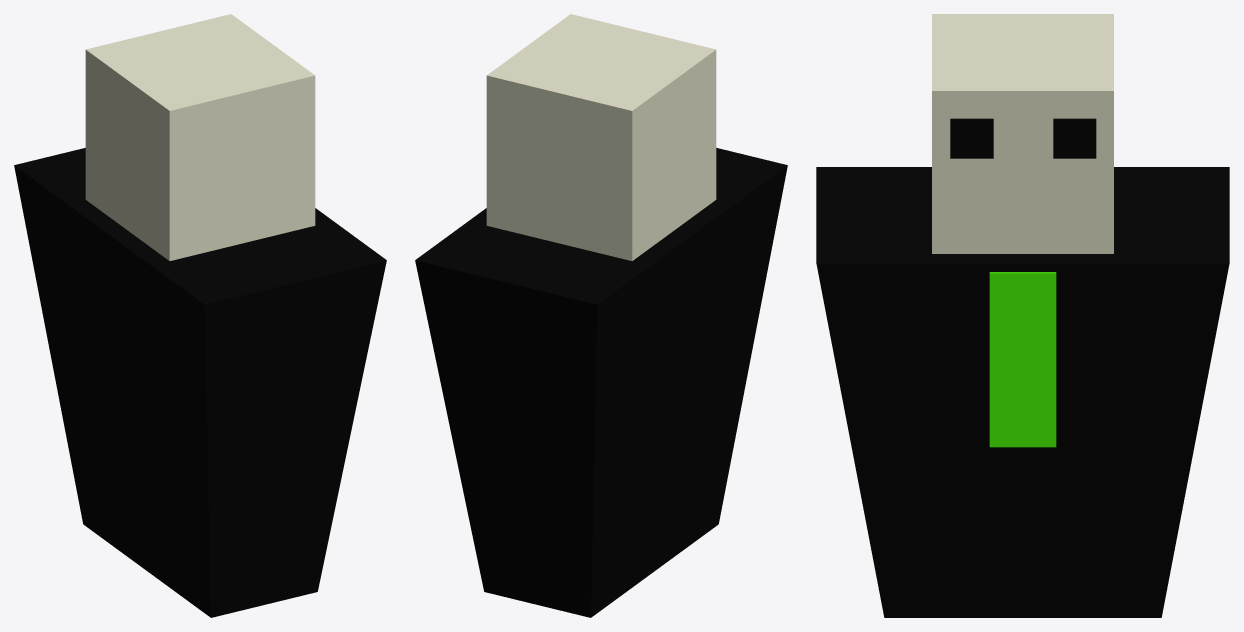
File: user3.glb
The picture shows the model from 3 angles, left to right: view 1: azimuth 30°, elevation 25°; view 2: azimuth 150°, elevation 25°; view 3: azimuth 270°, elevation 25°; orthographic projection. The views are drawn at different scales.
Parts seen in each view (by area): view 1: Cube, Cube.001; view 2: Cube, Cube.001; view 3: Cube, Cube.001, Cube.002, Cube.003, Cube.004.
Boxes of the visible parts, <box> form: Cube: <box>14,148,386,617</box>; Cube.001: <box>85,14,315,260</box>; Cube: <box>415,148,787,617</box>; Cube.001: <box>486,14,716,260</box>; Cube: <box>816,167,1229,617</box>; Cube.001: <box>932,14,1113,253</box>; Cube.002: <box>989,272,1056,447</box>; Cube.003: <box>950,118,993,158</box>; Cube.004: <box>1053,118,1096,158</box>.
Size of the model in its own units: 1.24 by 2.87 by 2.
